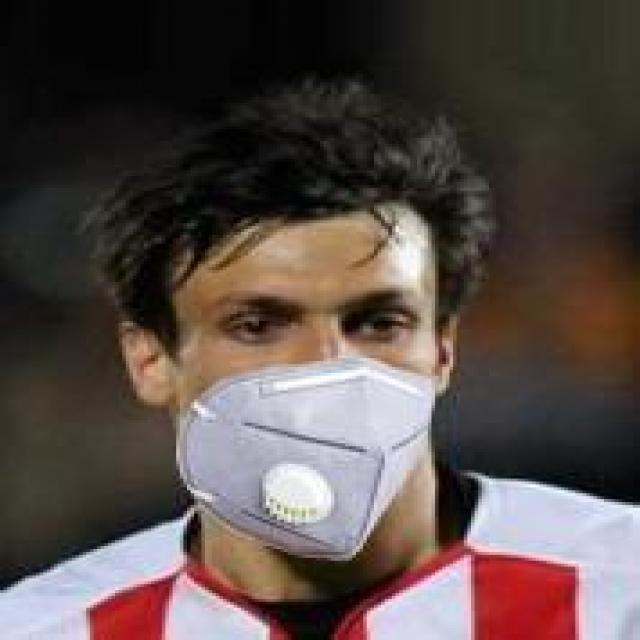mask: (115, 70, 575, 566)
